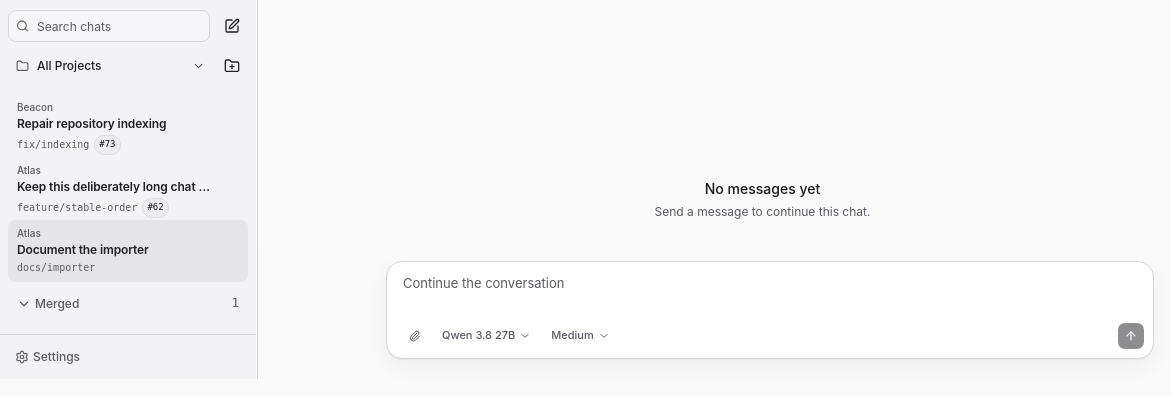
Test: search filters metadata in stable order, stays sidebar-only, and Escape clears it
The image size is (1171, 396).
In the search field labelled "Search chats": point(109, 26) top-left (8, 10), bottom-right (210, 42), type "#62"
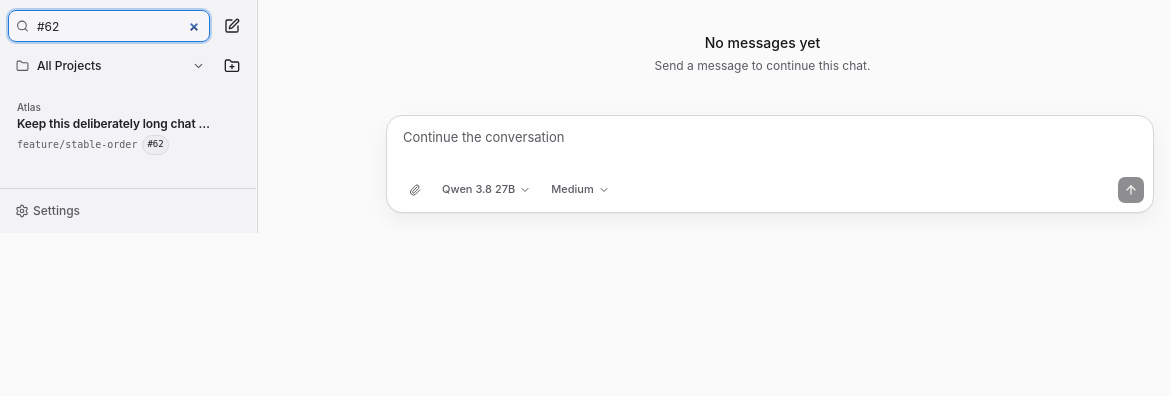
Press Escape
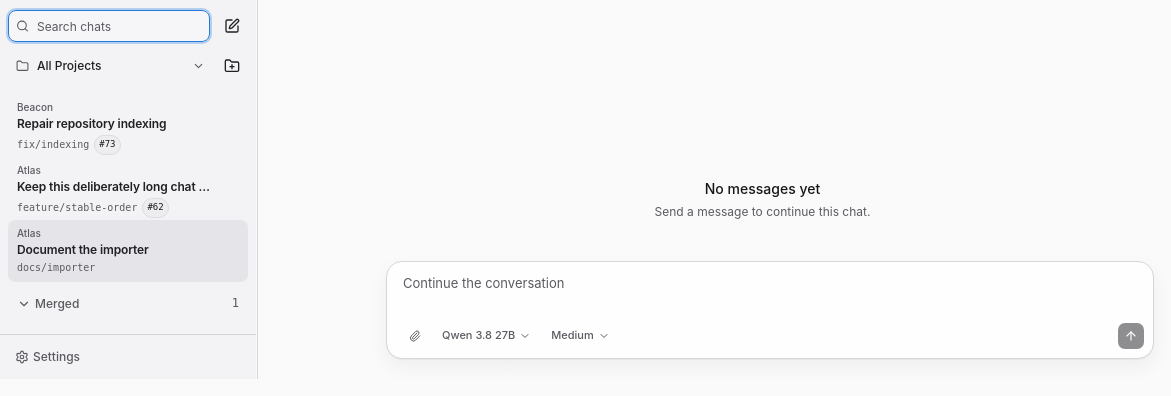
Result: the search field labelled "Search chats" is empty at top-left (8, 10), bottom-right (210, 42)
Result: the number of list items is 3 at top-left (8, 94), bottom-right (248, 156); top-left (8, 157), bottom-right (248, 219); top-left (8, 220), bottom-right (248, 282)
